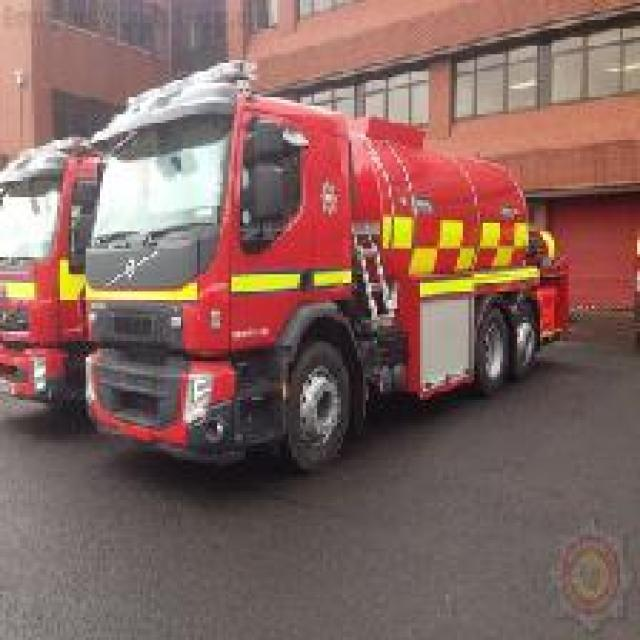emergency: (94, 57, 576, 476)
